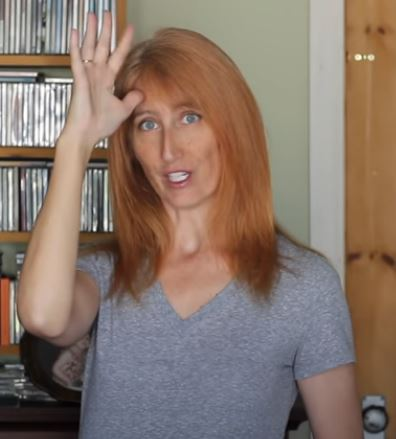dad: (67, 8, 216, 154)
